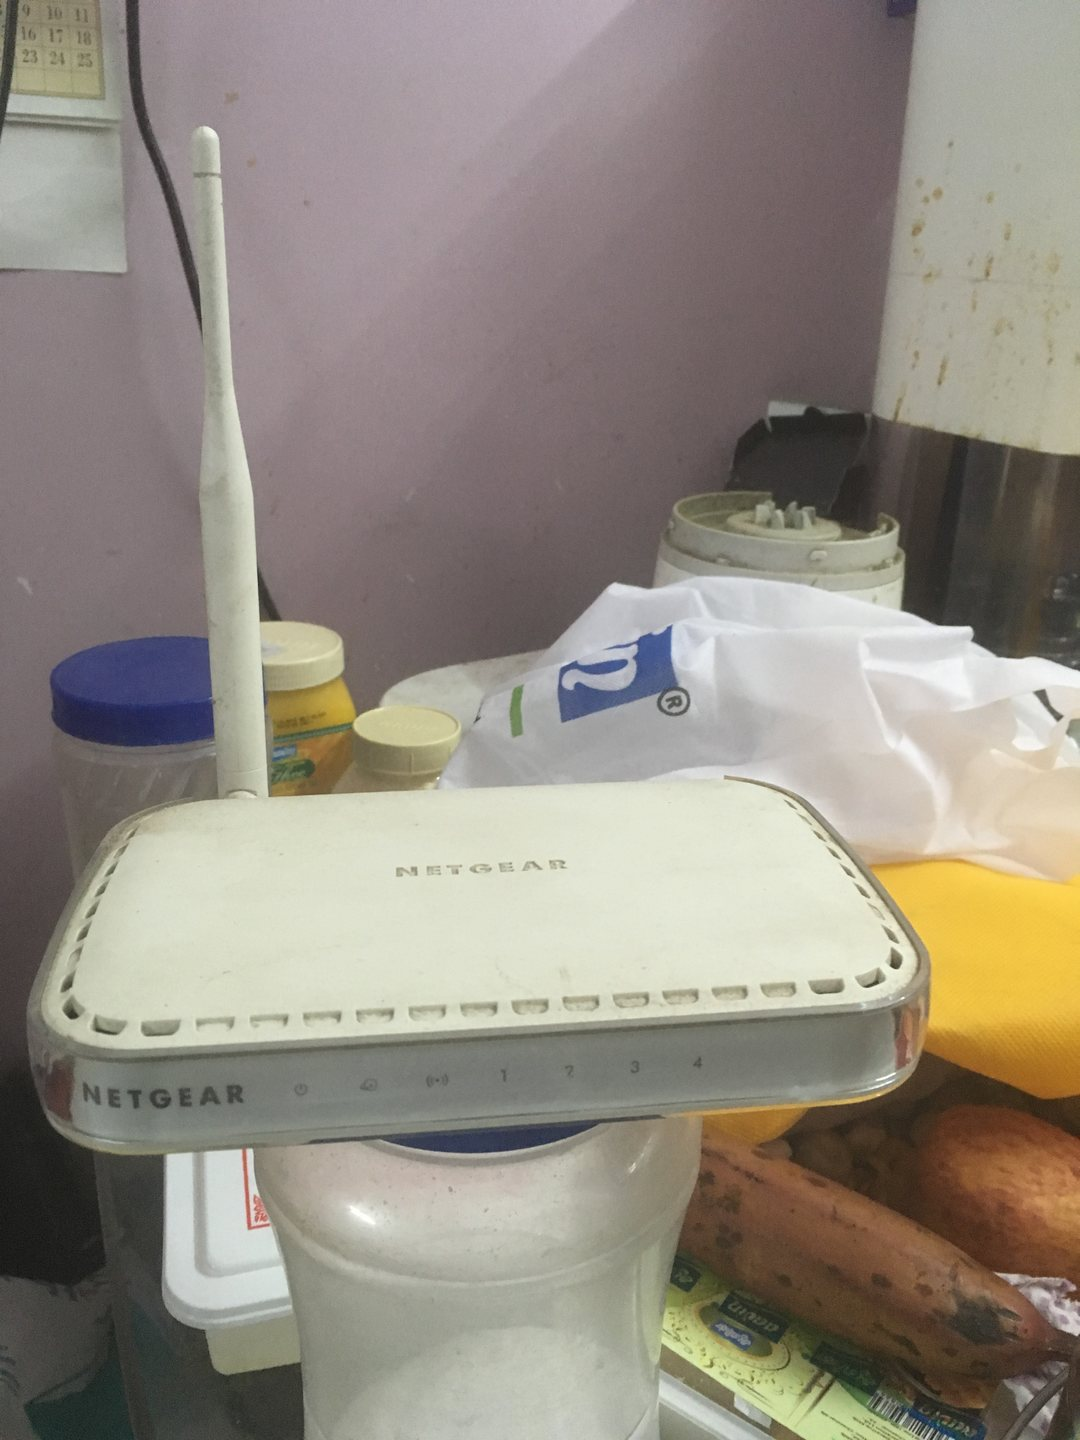NETGEAR: (75, 1075, 250, 1120)
modem: (37, 1002, 952, 1152)
